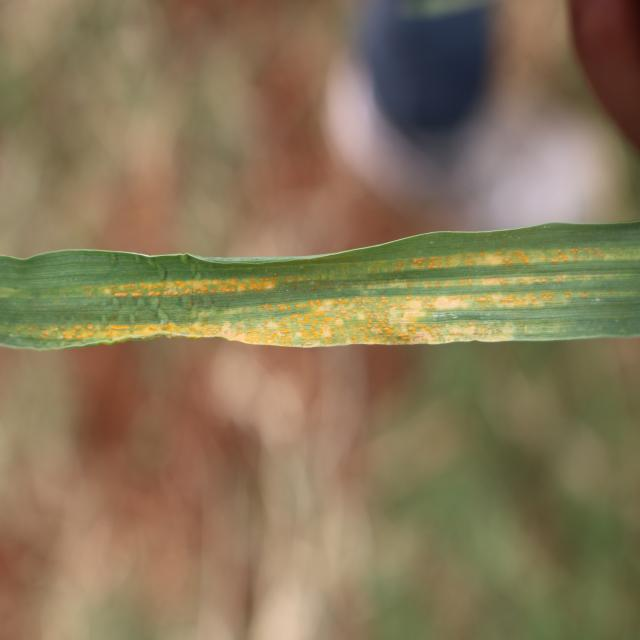Stripe Rust: (292, 285, 582, 343), (26, 306, 288, 343), (412, 250, 624, 269), (102, 279, 268, 296)
